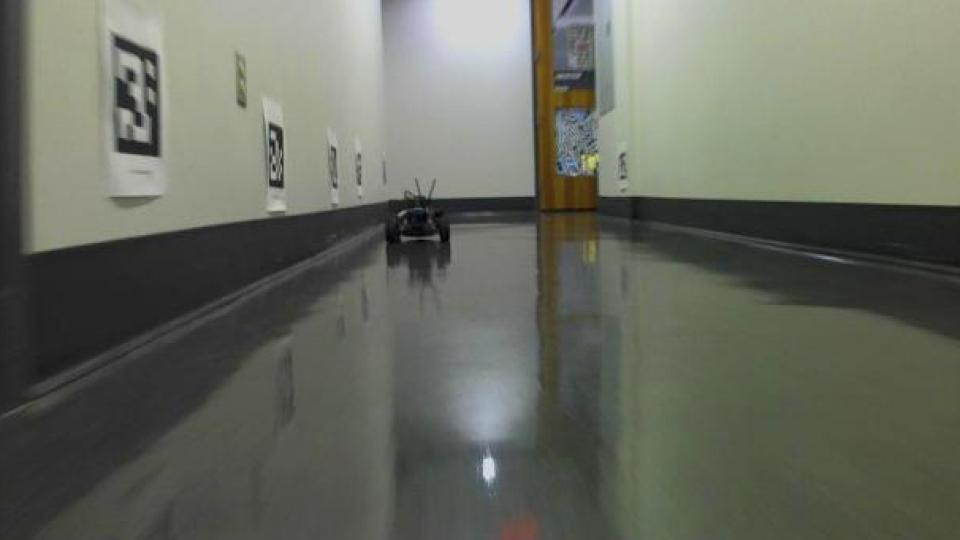car: (380, 175, 453, 249)
